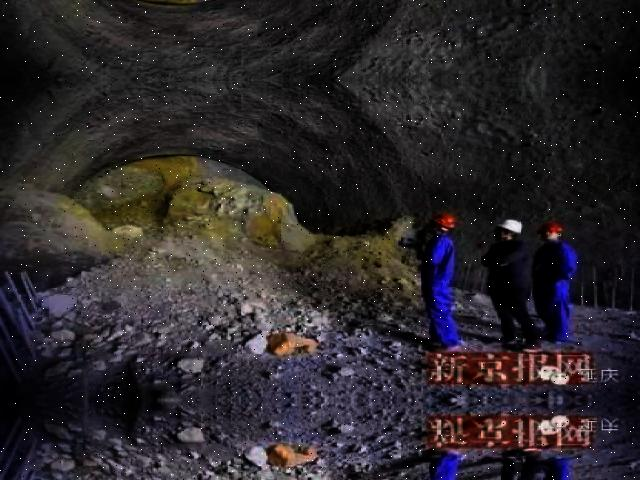Helmet: (425, 207, 458, 231), (489, 215, 523, 238), (532, 216, 565, 236)
